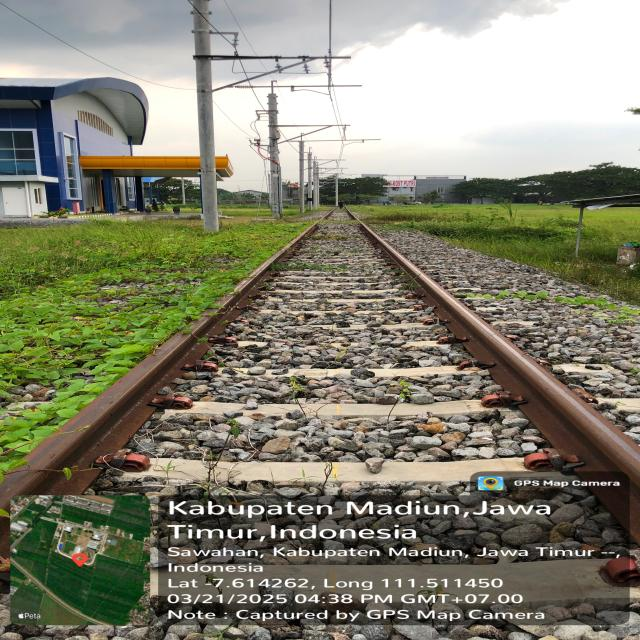rail-detection: (359, 223, 640, 544), (0, 224, 317, 507)
